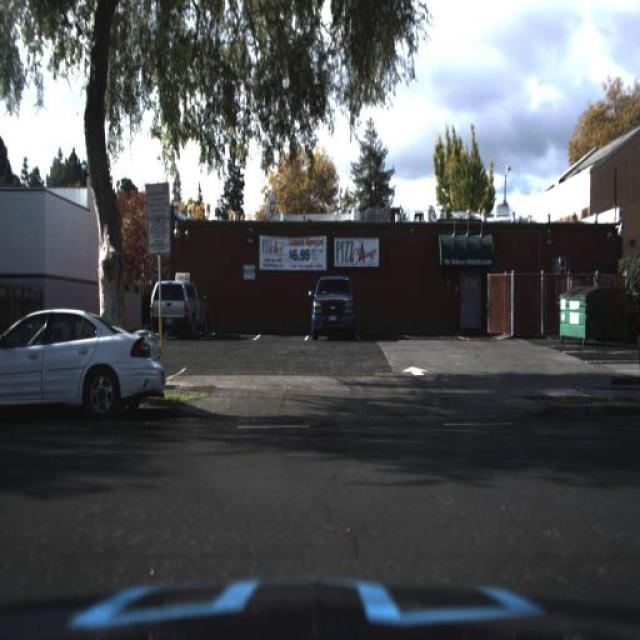car: (0, 302, 170, 434), (143, 275, 211, 336), (302, 266, 361, 334)
